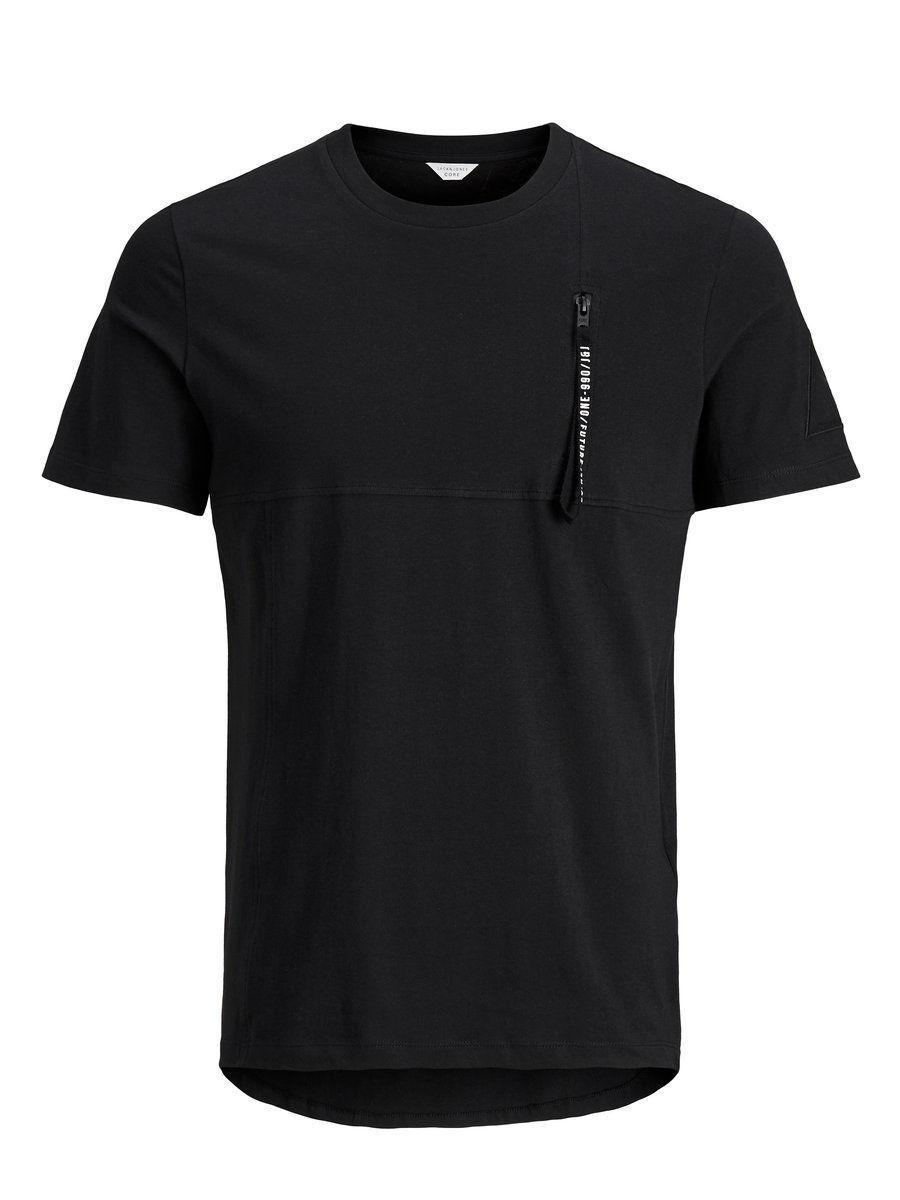teeshirt: (32, 109, 880, 1167)
